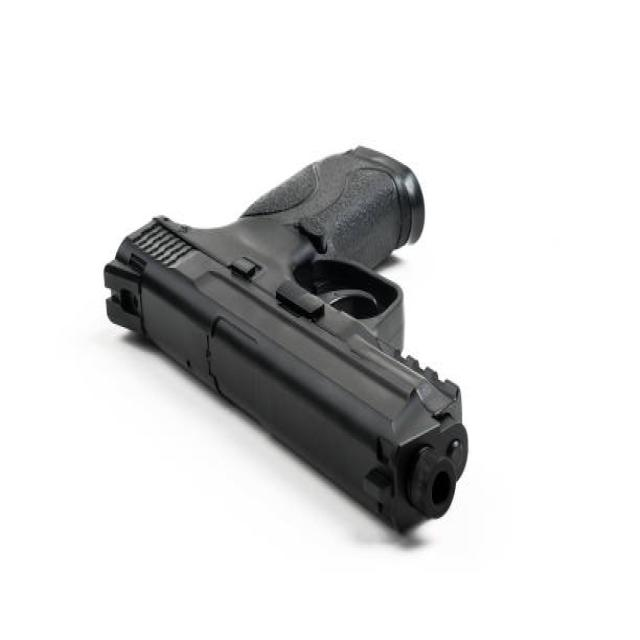pistol: (87, 134, 480, 548)
